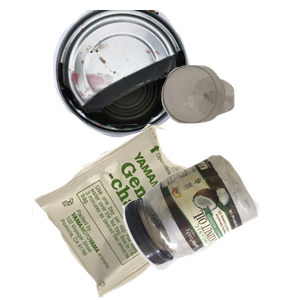glass: (159, 63, 300, 179)
metal: (50, 10, 262, 140)
plastic: (120, 152, 300, 300)
trash: (29, 124, 238, 300)
